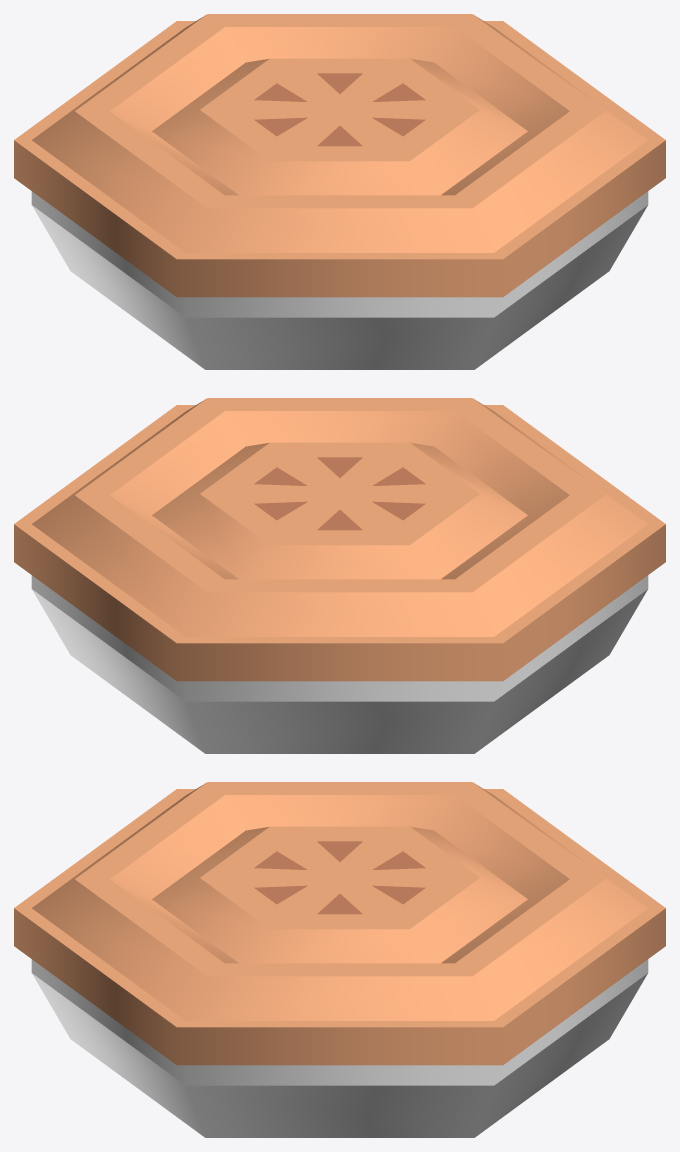
The model's file is Mincemeat Pie.glb.
3 views of the same model, one above another, from view 1: azimuth 30°, elevation 25°; view 2: azimuth 150°, elevation 25°; view 3: azimuth 270°, elevation 25° (orthographic).
Visible parts, largest first — view 1: mincemeatPie; view 2: mincemeatPie; view 3: mincemeatPie.
Part boxes in pixels (bbox=[...]): mincemeatPie: bbox=[14, 14, 665, 369]; mincemeatPie: bbox=[14, 398, 665, 753]; mincemeatPie: bbox=[14, 782, 665, 1137].
Size of the model in its own units: 0.5309 by 0.1673 by 0.6131.
